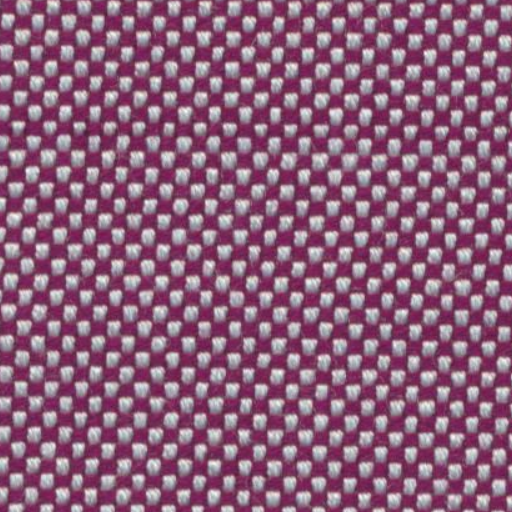TuoSha: (13, 84, 498, 174)
